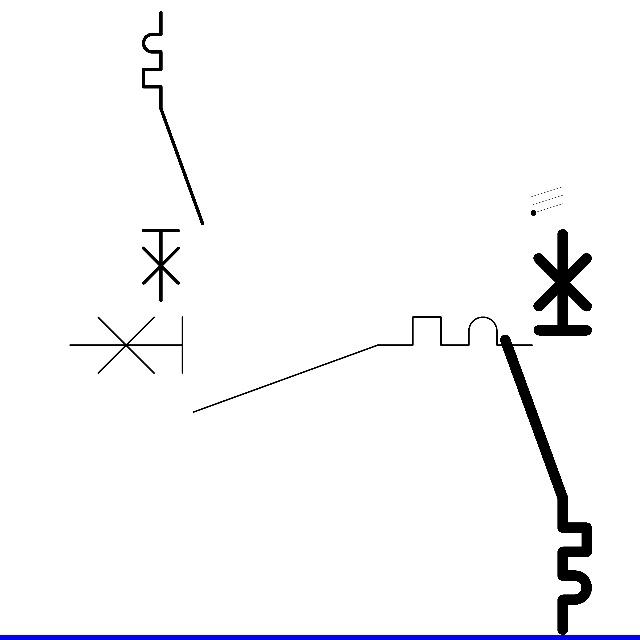interruptor_termomagnetico: (58, 305, 544, 424), (495, 224, 597, 640), (136, 5, 210, 308)
